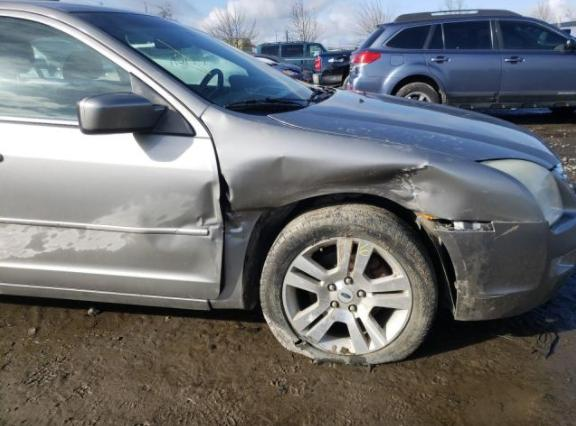Broken part: (260, 204, 438, 365), (416, 210, 575, 321), (198, 118, 235, 311)
Corrosion: (416, 214, 435, 225)
Dent: (277, 167, 468, 219), (142, 182, 223, 279), (263, 157, 306, 193), (224, 211, 262, 242)
Flaking: (0, 224, 136, 263), (83, 190, 199, 228)
Scratch: (404, 174, 420, 210), (405, 165, 428, 173)
